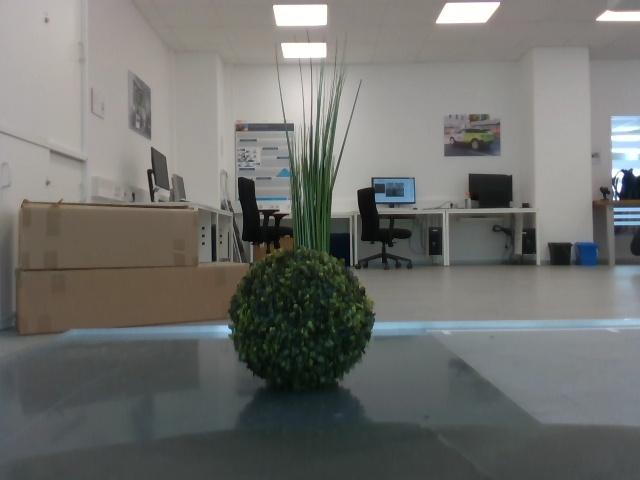potted plant: (224, 249, 379, 394), (272, 43, 365, 242)
